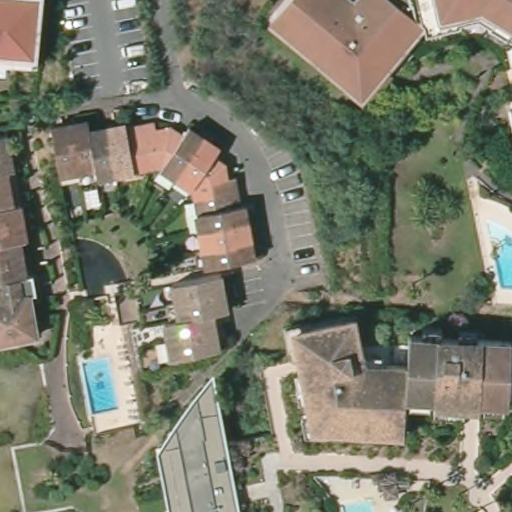pool: (80, 352, 123, 416), (480, 214, 512, 292)
